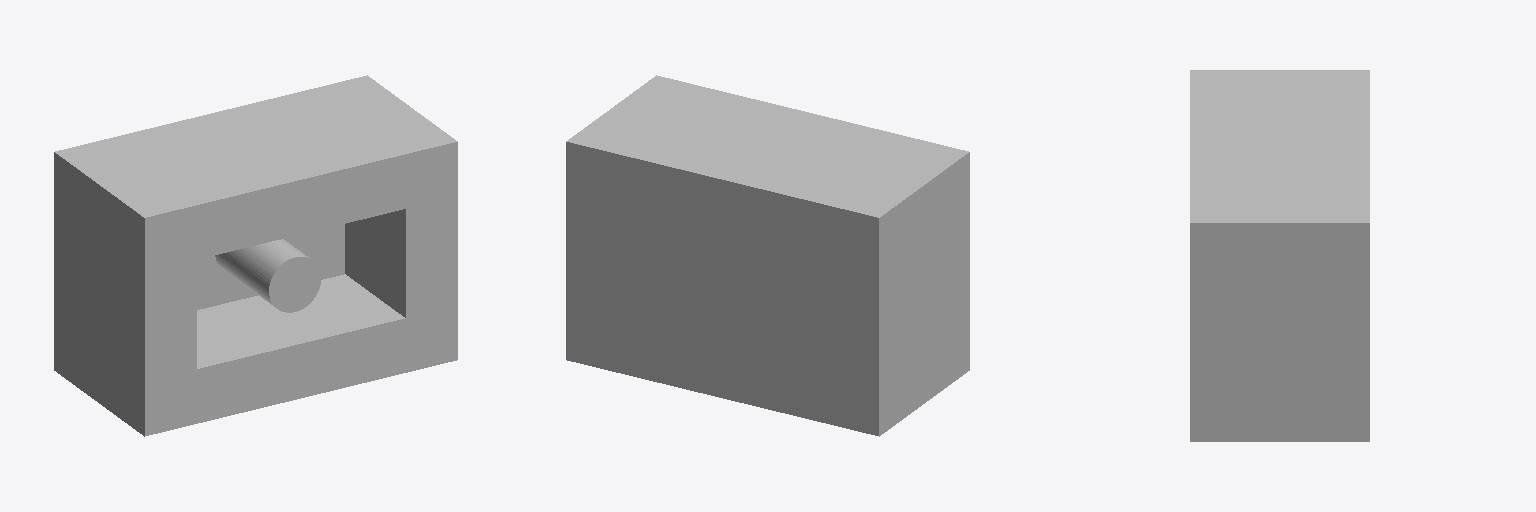
Rendered from tank9.obj.
The picture shows the model from 3 angles: view 1: azimuth 30°, elevation 25°; view 2: azimuth 150°, elevation 25°; view 3: azimuth 270°, elevation 25°; orthographic projection.
Bounding box in the file's own units: 3 × 2 × 1.5.